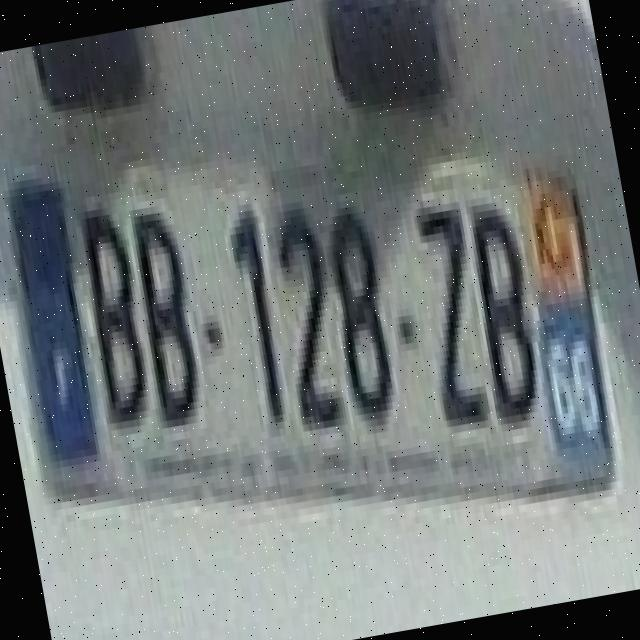EU: (4, 170, 618, 484)
France: (5, 185, 100, 459)
